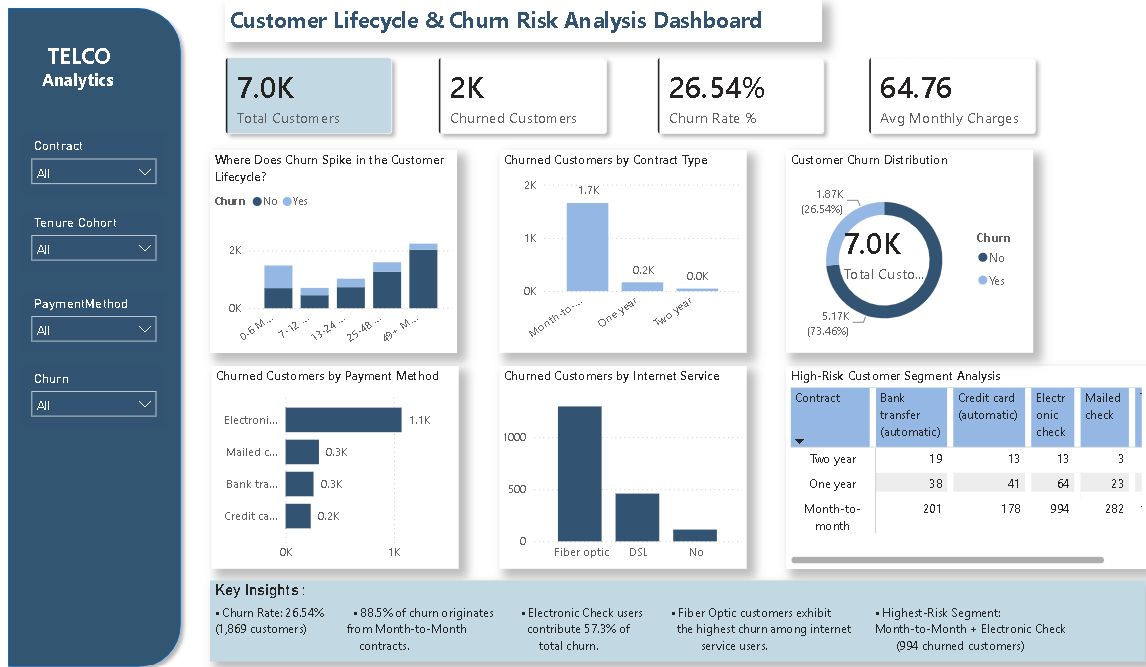

The page's visual inventory and layout, read from the dashboard file:
{"tool":"powerbi","page":{"name":"Page 1","canvas":[1280,750],"ordinal":0},"visuals":[{"type":"cardVisual","fields":{"Data":["Telco-Customer-Churn.Total Customers"]},"box":[233.3,47.1,219.6,119.6],"z":0},{"type":"cardVisual","fields":{"Data":["Telco-Customer-Churn.Churned Customers"]},"box":[470.6,47.1,221.6,119.6],"z":1000},{"type":"cardVisual","fields":{"Data":["Telco-Customer-Churn.Churn Rate %"]},"box":[713.7,47.1,219.6,119.6],"z":2000},{"type":"shape","box":[0,0,209.8,751],"z":3000},{"type":"textbox","box":[47.1,39.2,90.2,43.1],"z":4000},{"type":"textbox","box":[41.2,70.6,100,45.1],"z":5000},{"type":"textbox","box":[223.5,0,296.1,47.1],"z":6000},{"type":"columnChart","title":"Where Does Churn Spike in the Customer Lifecycle?","fields":{"Y":["Count(Telco-Customer-Churn.customerID)"],"Series":["Telco-Customer-Churn.Churn"],"Category":["Telco-Customer-Churn.Tenure Cohort"]},"box":[233.3,166.7,274.5,225.5],"z":7000},{"type":"clusteredColumnChart","title":"Churned Customers by Contract Type","fields":{"Category":["Telco-Customer-Churn.Contract"],"Y":["Telco-Customer-Churn.Churned Customers"]},"box":[554.9,166.7,274.5,225.5],"z":8000},{"type":"clusteredBarChart","title":"Churned Customers by Payment Method","fields":{"Category":["Telco-Customer-Churn.PaymentMethod"],"Y":["CountNonNull(Telco-Customer-Churn.customerID)"]},"box":[235.3,405.9,274.5,225.5],"z":10000},{"type":"cardVisual","fields":{"Data":["Telco-Customer-Churn.Avg Monthly Charges"]},"box":[949,47.1,219.6,119.6],"z":11000},{"type":"clusteredColumnChart","title":"Churned Customers by Internet Service","fields":{"Category":["Telco-Customer-Churn.InternetService"],"Y":["Telco-Customer-Churn.Churned Customers"]},"box":[554.9,405.9,274.5,225.5],"z":12000},{"type":"donutChart","title":"Customer Churn Distribution","fields":{"Category":["Telco-Customer-Churn.Churn"],"Y":["Count(Telco-Customer-Churn.customerID)"]},"box":[872.5,166.7,274.5,225.5],"z":13000},{"type":"pivotTable","title":"High-Risk Customer Segment Analysis","fields":{"Rows":["Telco-Customer-Churn.Contract"],"Columns":["Telco-Customer-Churn.PaymentMethod"],"Values":["Telco-Customer-Churn.Churned Customers"]},"box":[872.5,405.9,400,156.9],"z":14000},{"type":"textbox","title":"Key Insights :","box":[233.3,645.1,1039.2,90.2],"z":15000},{"type":"cardVisual","fields":{"Data":["Telco-Customer-Churn.Total Customers"]},"box":[907.8,233.3,151,94.1],"z":15001},{"type":"slicer","fields":{"Values":["Telco-Customer-Churn.Contract"]},"box":[25.5,149,158.8,68.6],"z":15003},{"type":"slicer","fields":{"Values":["Telco-Customer-Churn.Tenure Cohort"]},"box":[25.5,233.3,158.8,68.6],"z":15004},{"type":"slicer","fields":{"Values":["Telco-Customer-Churn.PaymentMethod"]},"box":[25.5,323.5,158.8,68.6],"z":15005},{"type":"slicer","fields":{"Values":["Telco-Customer-Churn.Churn"]},"box":[25.5,405.9,158.8,68.6],"z":15006}]}

Visuals, with their boxes in screenshot pixels (x1, y1, x2, y2), scaled from the page's 1280x750 canvas onto the 1146x667 screenshot:
cardVisual - Telco-Customer-Churn.Total Customers: (209,42,405,148)
cardVisual - Telco-Customer-Churn.Churned Customers: (421,42,620,148)
cardVisual - Telco-Customer-Churn.Churn Rate %: (639,42,836,148)
shape: (0,0,188,666)
textbox: (42,35,123,73)
textbox: (37,63,126,103)
textbox: (200,0,465,42)
"Where Does Churn Spike in the Customer Lifecycle?" columnChart: (209,148,455,349)
"Churned Customers by Contract Type" clusteredColumnChart: (497,148,743,349)
"Churned Customers by Payment Method" clusteredBarChart: (211,361,456,562)
cardVisual - Telco-Customer-Churn.Avg Monthly Charges: (850,42,1046,148)
"Churned Customers by Internet Service" clusteredColumnChart: (497,361,743,562)
"Customer Churn Distribution" donutChart: (781,148,1027,349)
"High-Risk Customer Segment Analysis" pivotTable: (781,361,1139,501)
"Key Insights :" textbox: (209,574,1139,654)
cardVisual - Telco-Customer-Churn.Total Customers: (813,207,948,291)
slicer - Telco-Customer-Churn.Contract: (23,133,165,194)
slicer - Telco-Customer-Churn.Tenure Cohort: (23,207,165,268)
slicer - Telco-Customer-Churn.PaymentMethod: (23,288,165,349)
slicer - Telco-Customer-Churn.Churn: (23,361,165,422)
